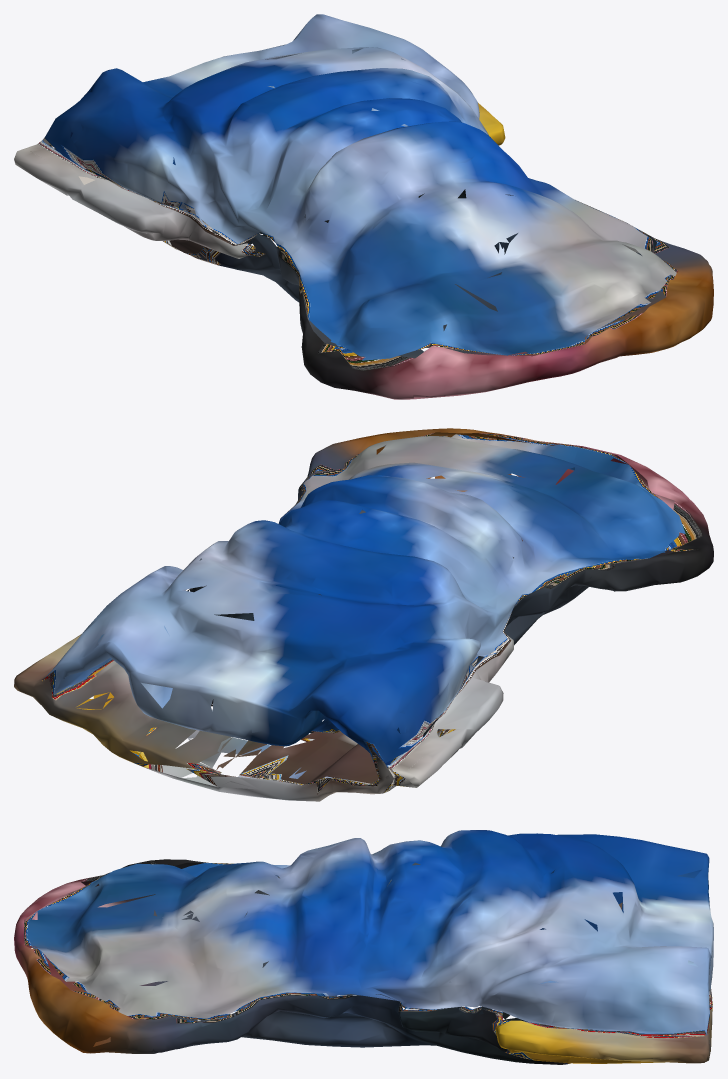
The model's file is rest-windel.glb.
3 renders of one model, top to bottom at view 1: azimuth 30°, elevation 25°; view 2: azimuth 150°, elevation 25°; view 3: azimuth 270°, elevation 25°, orthographic. The views are drawn at different scales.
Parts seen in each view (by area): view 1: rest-windel; view 2: rest-windel; view 3: rest-windel.
Boxes of the visible parts, x1,y1,x2,y2 form: rest-windel: (14, 14, 713, 399); rest-windel: (14, 428, 713, 801); rest-windel: (14, 830, 713, 1064).
Size of the model in its own units: 0.0774 by 0.0302 by 0.1215.
Materials: 1 (1 with a texture image).
